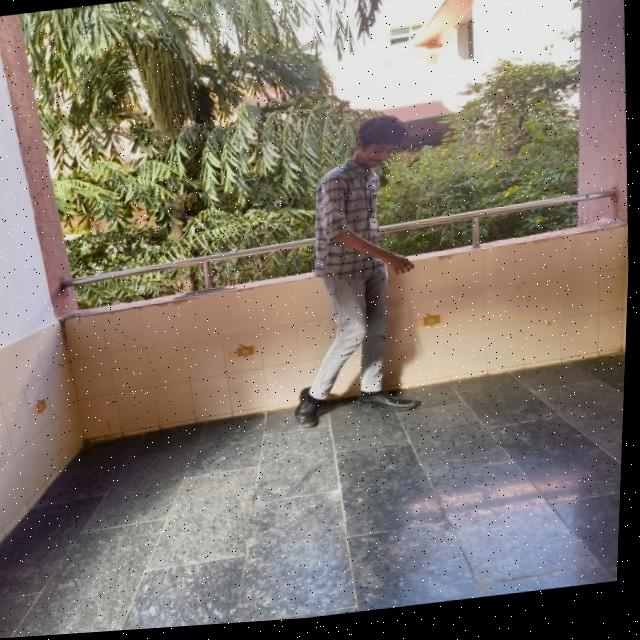id_card: (359, 178, 384, 240)
